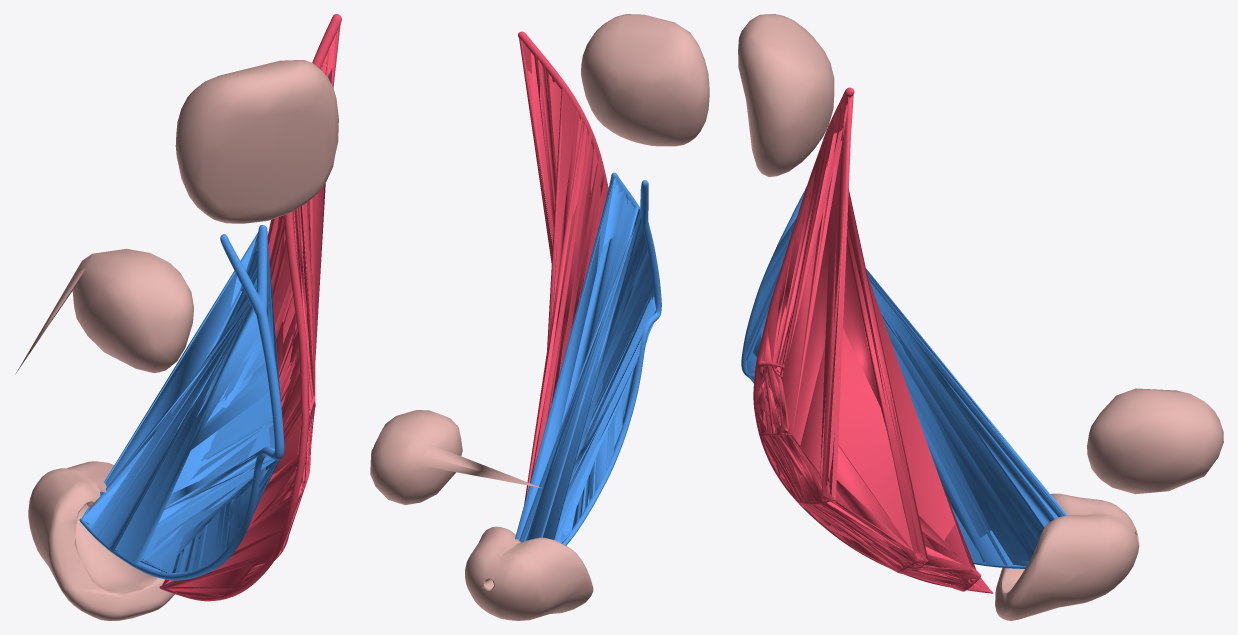
File: organ-male-reproductive.glb
The picture shows the model from 3 angles, left to right: view 1: azimuth 30°, elevation 25°; view 2: azimuth 150°, elevation 25°; view 3: azimuth 270°, elevation 25°; orthographic projection. The views are drawn at different scales.
Visible parts, largest first — view 1: Dorsal_Veins, Prostate_Gland, Dorsal_Vessels, Testes_Left_Right, Penis_Shaft_Glans; view 2: Dorsal_Veins, Dorsal_Vessels, Prostate_Gland, Penis_Shaft_Glans, Testes_Left_Right; view 3: Dorsal_Vessels, Dorsal_Veins, Prostate_Gland, Testes_Left_Right, Penis_Shaft_Glans.
Boxes of the visible parts, left/top/right/bottom form: Dorsal_Veins: left=79, top=225, right=284, bottom=580; Prostate_Gland: left=175, top=60, right=338, bottom=223; Dorsal_Vessels: left=159, top=14, right=341, bottom=601; Testes_Left_Right: left=15, top=248, right=193, bottom=374; Penis_Shaft_Glans: left=28, top=461, right=174, bottom=620; Dorsal_Veins: left=515, top=172, right=661, bottom=545; Dorsal_Vessels: left=518, top=31, right=608, bottom=504; Prostate_Gland: left=581, top=14, right=709, bottom=146; Penis_Shaft_Glans: left=465, top=526, right=593, bottom=620; Testes_Left_Right: left=370, top=410, right=541, bottom=505; Dorsal_Vessels: left=753, top=87, right=993, bottom=593; Dorsal_Veins: left=741, top=186, right=1066, bottom=568; Prostate_Gland: left=738, top=14, right=834, bottom=176; Testes_Left_Right: left=1087, top=388, right=1223, bottom=494; Penis_Shaft_Glans: left=995, top=493, right=1139, bottom=620.
Size of the model in its own units: 0.1664 by 0.5 by 0.3765.
